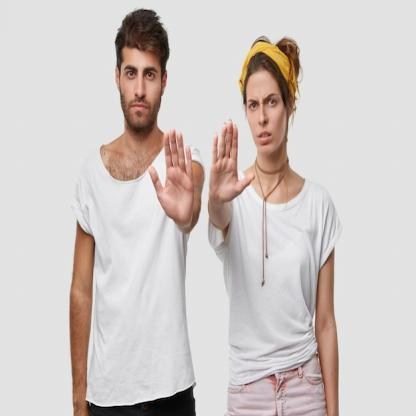stop: (146, 126, 199, 232), (209, 120, 256, 209)
